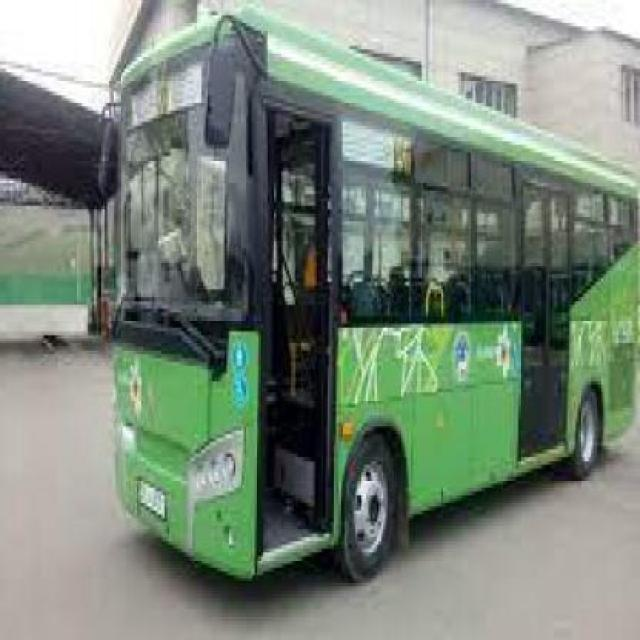bus: (112, 9, 640, 586)
